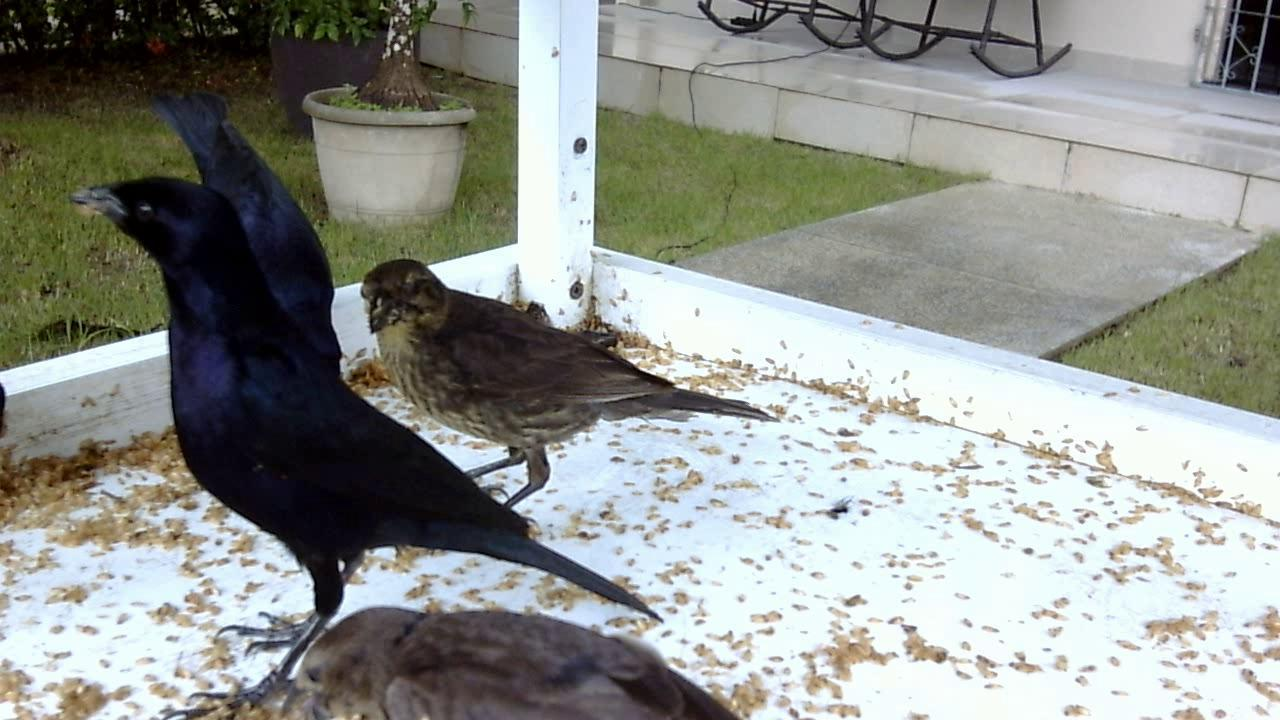chupim: (65, 177, 674, 720), (315, 245, 788, 543), (233, 589, 753, 718), (143, 99, 357, 341)
